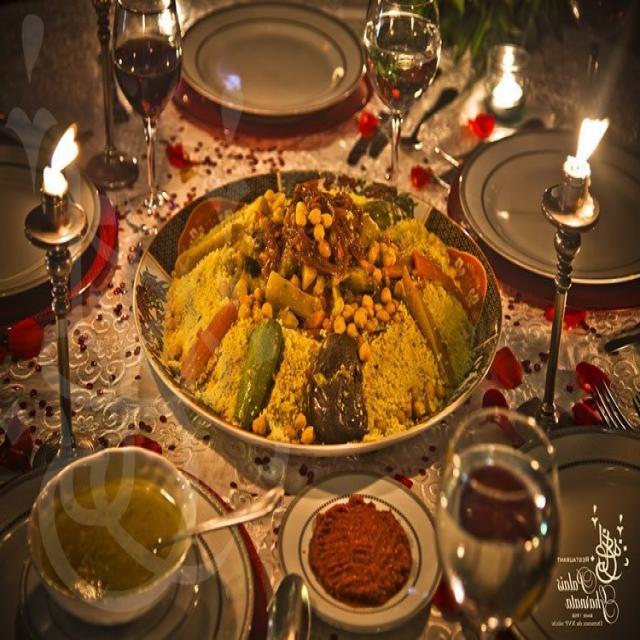Couscous: (161, 180, 476, 446)
